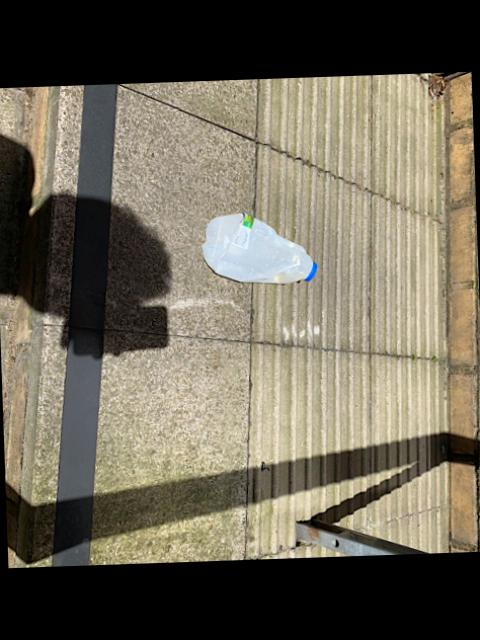plastic: (203, 215, 317, 285)
